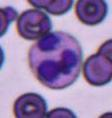N: (28, 30, 82, 88)
